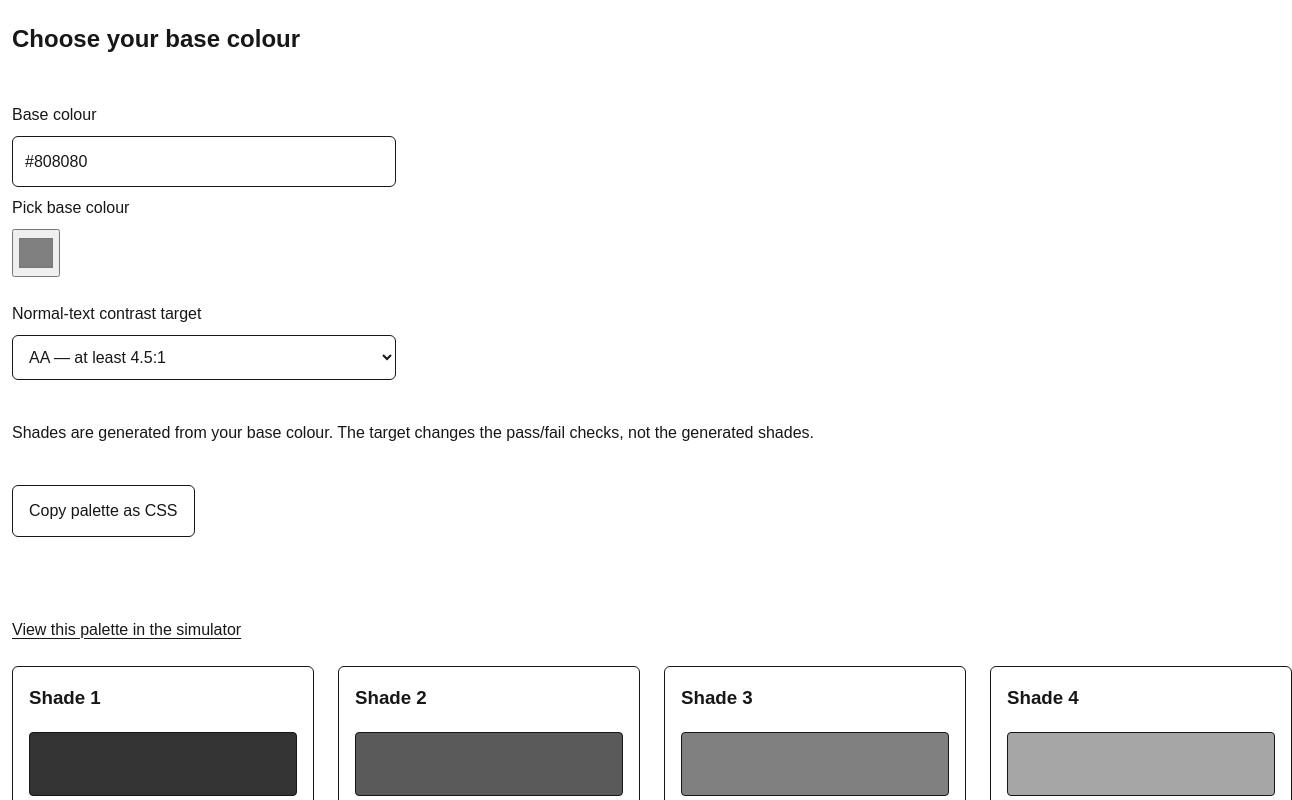
Scenario: copies the generated CSS variables
This screenshot has width=1292, height=800.
Click the button "Copy palette as CSS" at (103, 511), box x1=12 y1=485 x2=194 y2=537
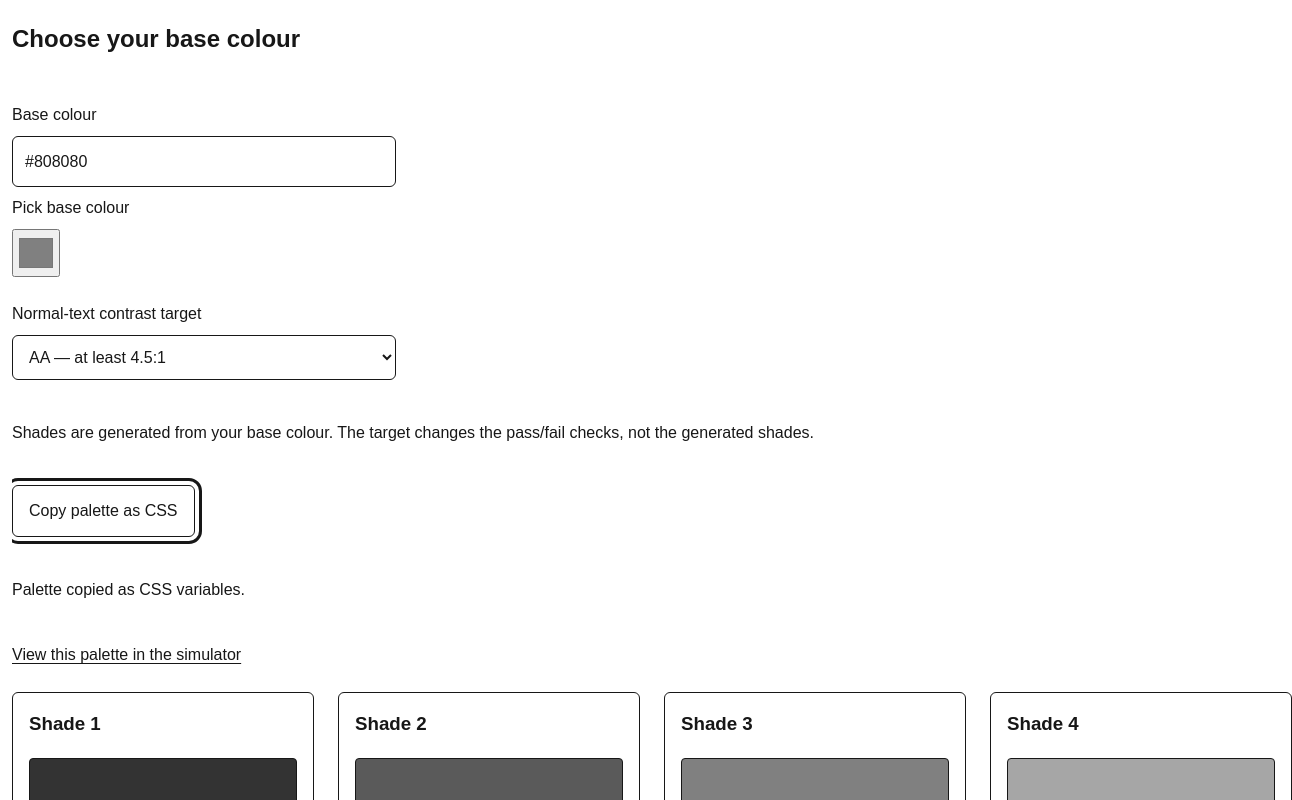
Check: the message reads "Palette copied as CSS variables.", box x1=12 y1=581 x2=245 y2=598
